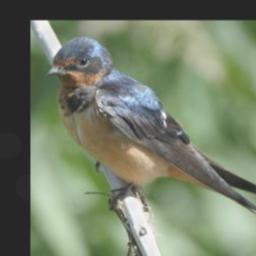Swallow: (44, 35, 256, 239)
